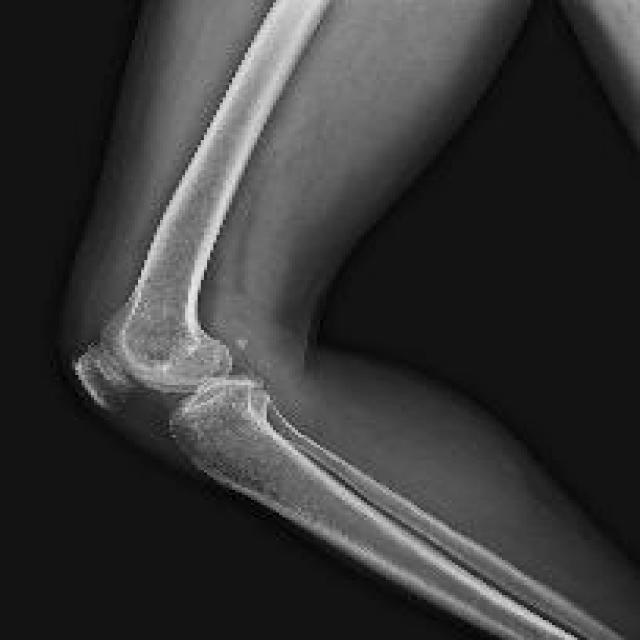normal: (169, 378, 623, 640), (100, 0, 329, 393), (74, 344, 136, 412)
